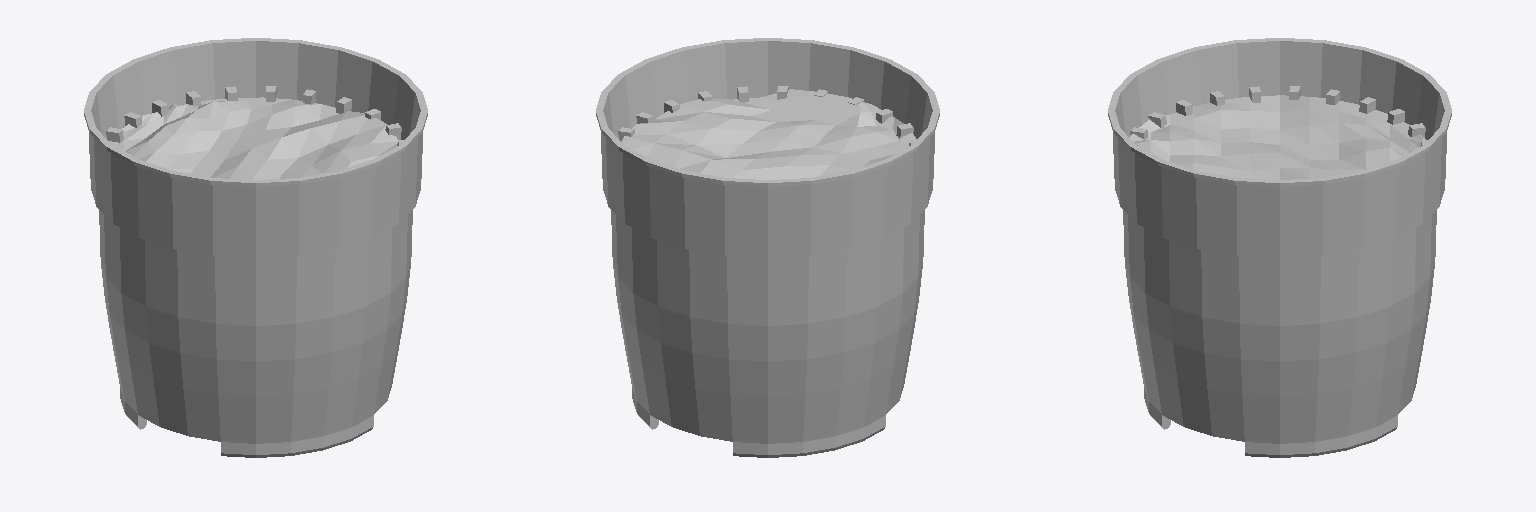
File: Maceta.obj
The picture shows the model from 3 angles: view 1: azimuth 30°, elevation 25°; view 2: azimuth 150°, elevation 25°; view 3: azimuth 270°, elevation 25°; orthographic projection.
Parts seen in each view (by area): view 1: Cylinder; view 2: Cylinder; view 3: Cylinder.
Boxes of the visible parts, x1,y1,x2,y2 form: Cylinder: [84, 38, 427, 457]; Cylinder: [596, 38, 939, 457]; Cylinder: [1108, 38, 1451, 457].
Size of the model in its own units: 1.89 by 1.76 by 1.89.